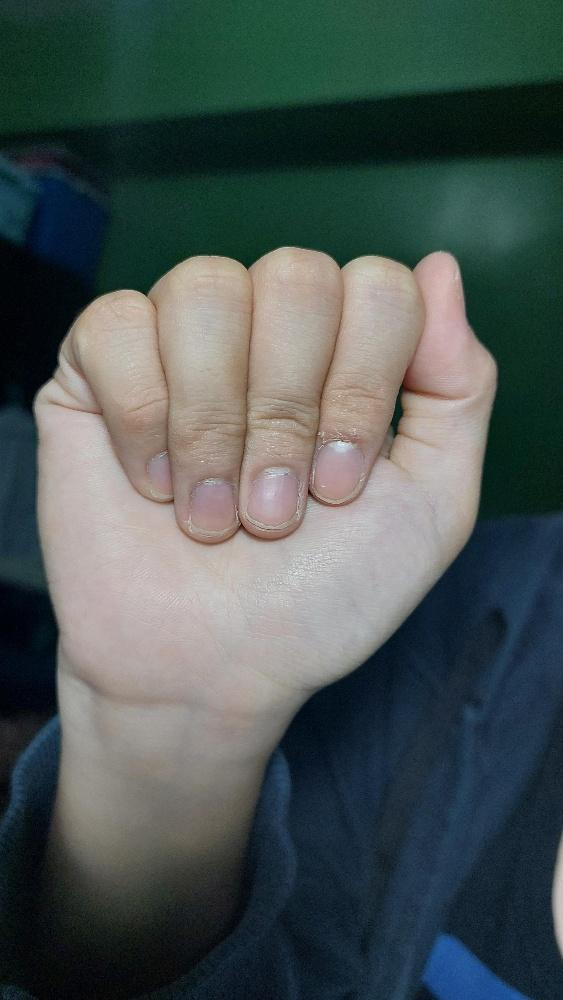a: (31, 244, 497, 717)
